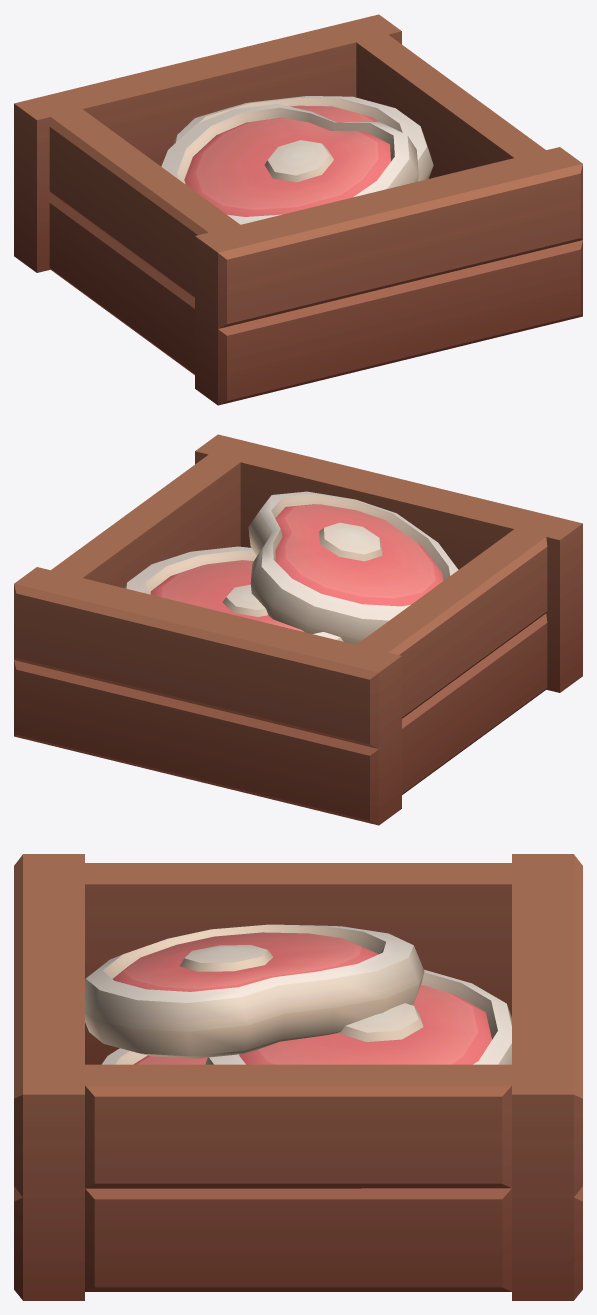
Rendered from meat_counter.glb.
The picture shows the model from 3 angles, top to bottom: view 1: azimuth 30°, elevation 25°; view 2: azimuth 150°, elevation 25°; view 3: azimuth 270°, elevation 25°; orthographic projection. The views are drawn at different scales.
Parts seen in each view (by area): view 1: crate_steak; view 2: crate_steak; view 3: crate_steak.
Boxes of the visible parts, <box> form: crate_steak: <box>14,14,582,405</box>; crate_steak: <box>14,434,582,825</box>; crate_steak: <box>14,854,582,1300</box>.
Size of the model in its own units: 2 by 0.8769 by 2.
Materials: 1 (1 with a texture image).
